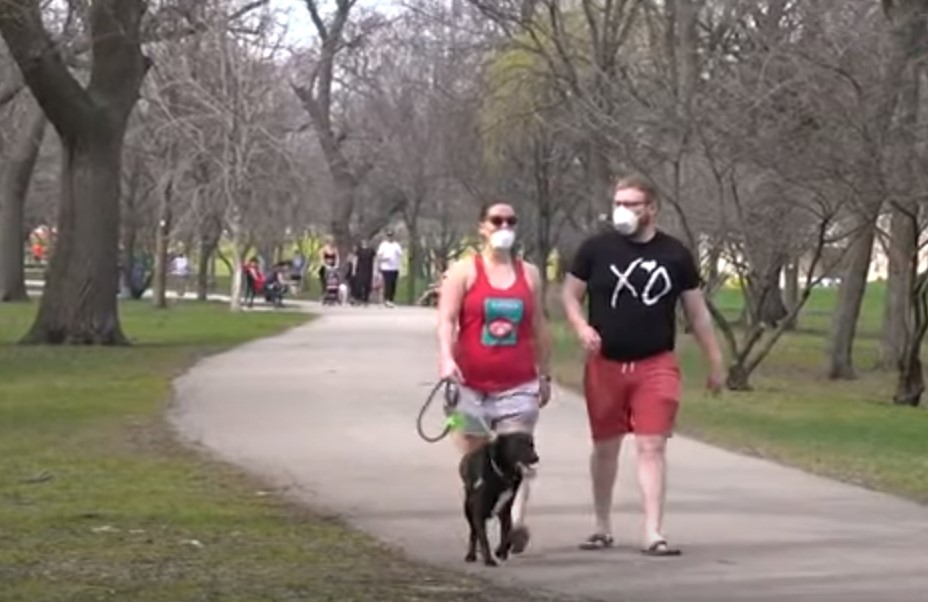face_with_mask: (607, 175, 661, 239), (475, 196, 520, 259)
